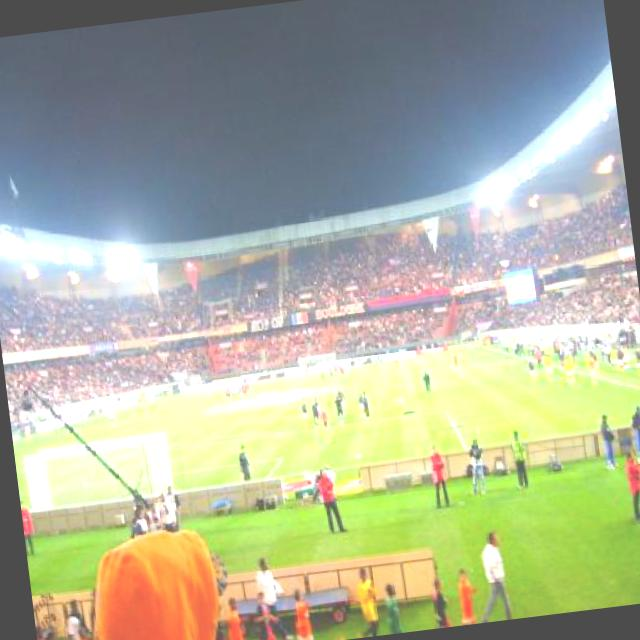Person: (0, 160, 640, 640), (308, 463, 354, 542)
